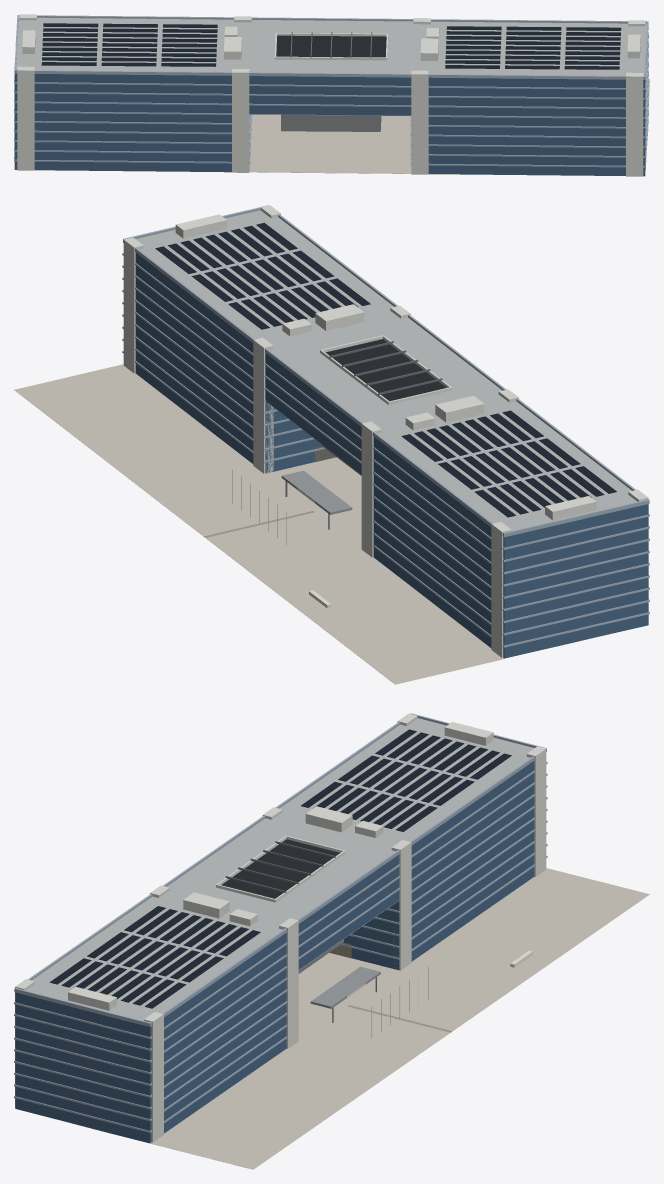
File: taichung_city_hall.glb
3 renders of one model, top to bottom at view 1: azimuth 30°, elevation 25°; view 2: azimuth 150°, elevation 25°; view 3: azimuth 270°, elevation 25°, orthographic. The views are drawn at different scales.
Parts seen in each view (by area): view 1: taichung_city_hall_mesh; view 2: taichung_city_hall_mesh; view 3: taichung_city_hall_mesh.
Boxes of the visible parts, x1,y1,x2,y2 form: taichung_city_hall_mesh: (14, 14, 649, 176); taichung_city_hall_mesh: (14, 205, 649, 684); taichung_city_hall_mesh: (14, 713, 649, 1169).
Bounding box in the file's own units: 265 × 46.85 × 211.
